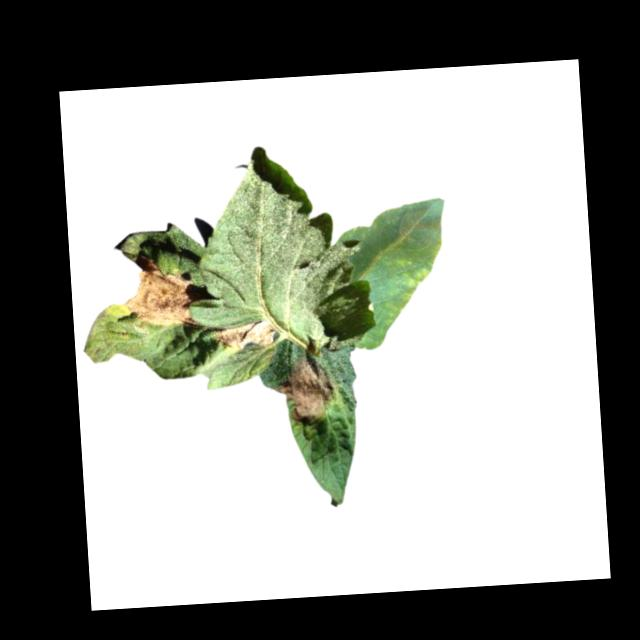Late_blight: (121, 252, 205, 331), (264, 352, 338, 427), (377, 255, 431, 316), (213, 323, 276, 352)
healthy: (182, 139, 367, 351)
